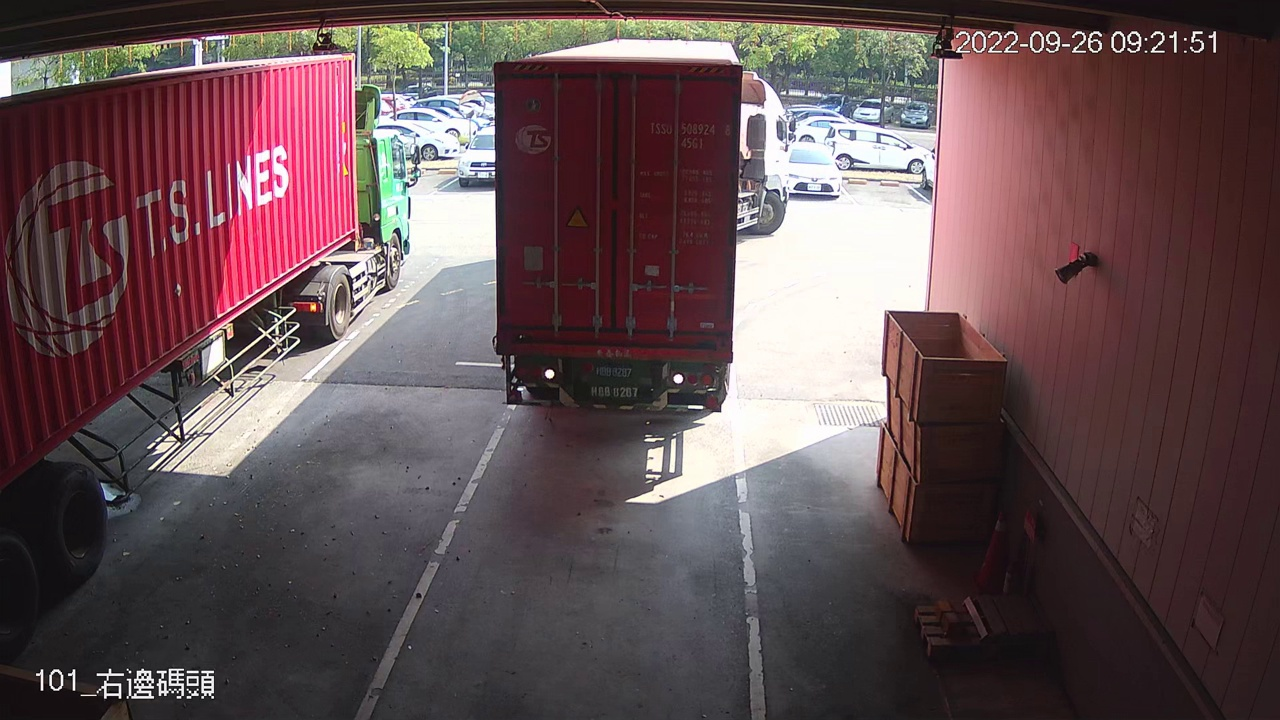container: (642, 116, 733, 153)
